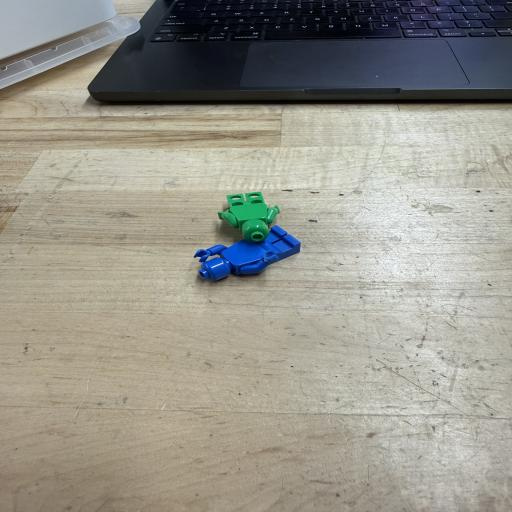blue-minifig: (200, 232, 300, 281)
green-minifig: (218, 191, 280, 242)
